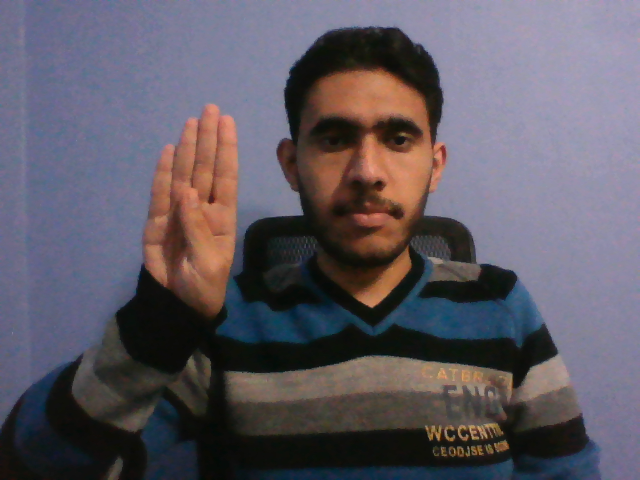B: (138, 99, 243, 321)
